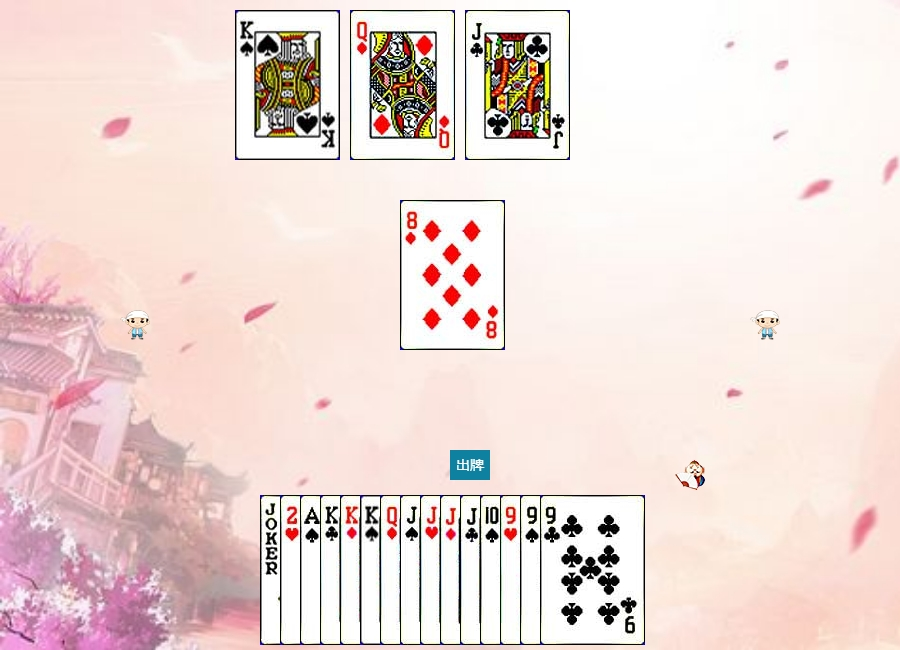10~4: (480, 495, 585, 645)
11~1: (440, 495, 545, 645)
11~2: (465, 10, 570, 160), (460, 495, 565, 645)
11~3: (420, 495, 525, 645)
11~4: (400, 495, 505, 645)
12~1: (350, 10, 455, 160), (380, 495, 485, 645)
13~1: (340, 495, 445, 645)
13~2: (320, 495, 425, 645)
13~4: (235, 10, 340, 160), (360, 495, 465, 645)
14~4: (300, 495, 405, 645)
15~3: (280, 495, 385, 645)
17~3: (260, 495, 365, 645)
8~1: (400, 200, 505, 350)
9~2: (540, 495, 645, 645)
9~3: (500, 495, 605, 645)
9~4: (520, 495, 625, 645)
